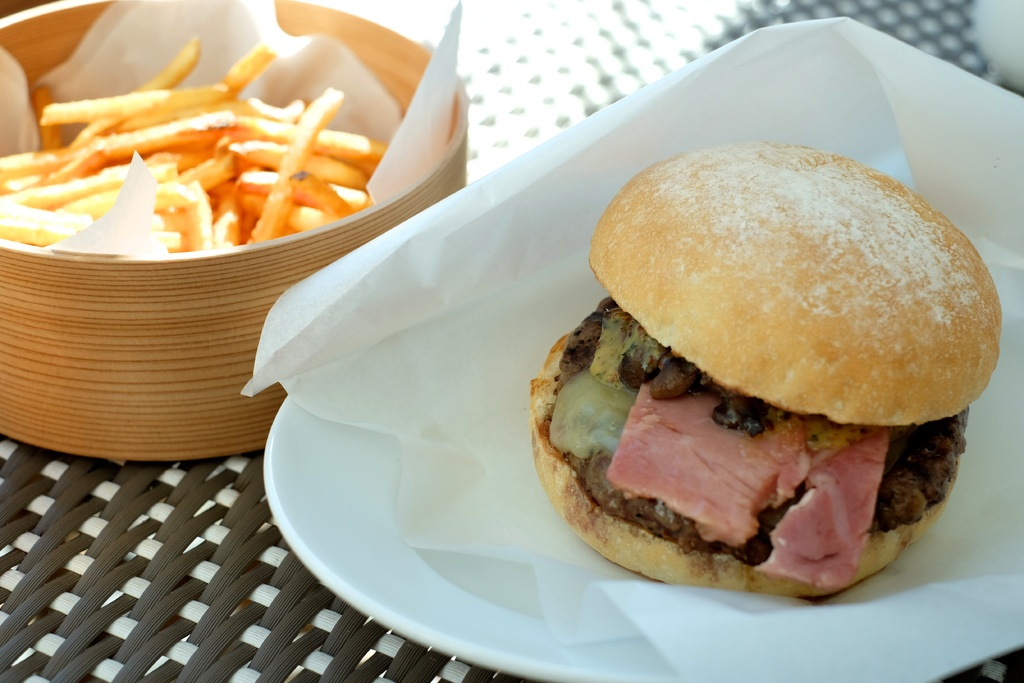French fries: (16, 26, 419, 263)
